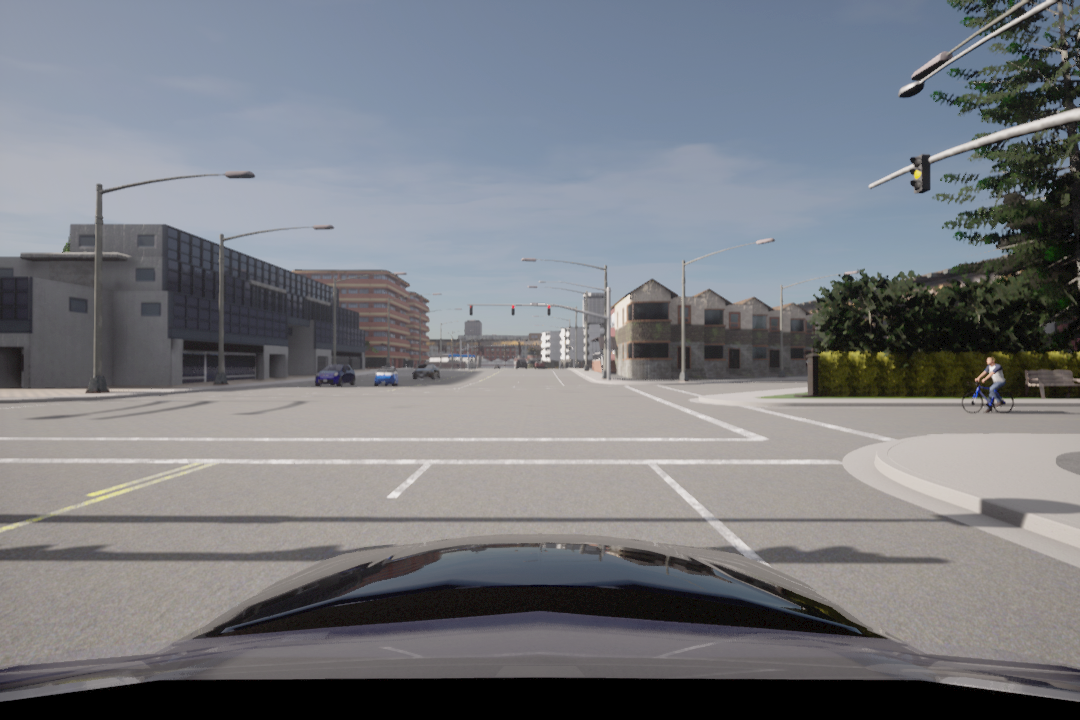TrafficLight: (904, 153, 928, 198)
